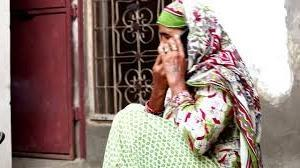Human: (94, 3, 281, 168)
